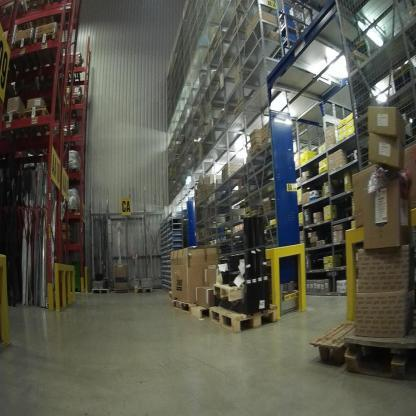pallets: (308, 321, 415, 382), (165, 289, 283, 339), (89, 287, 110, 294)
